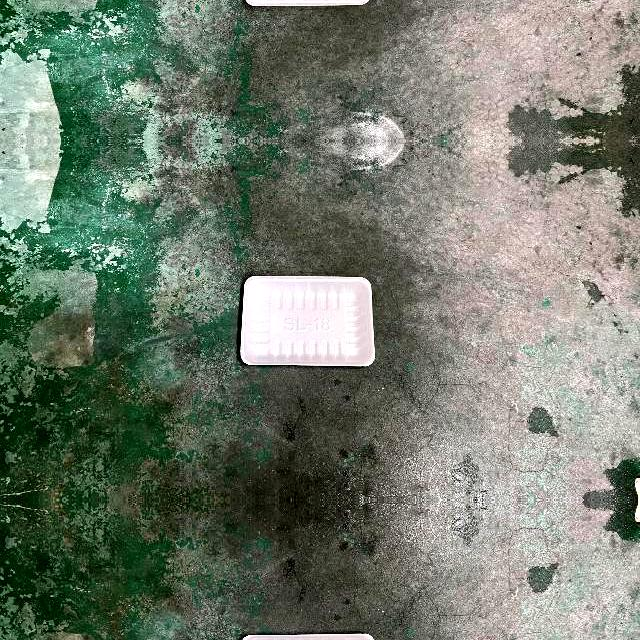Styrofoam: (240, 274, 374, 368), (240, 275, 375, 365)
